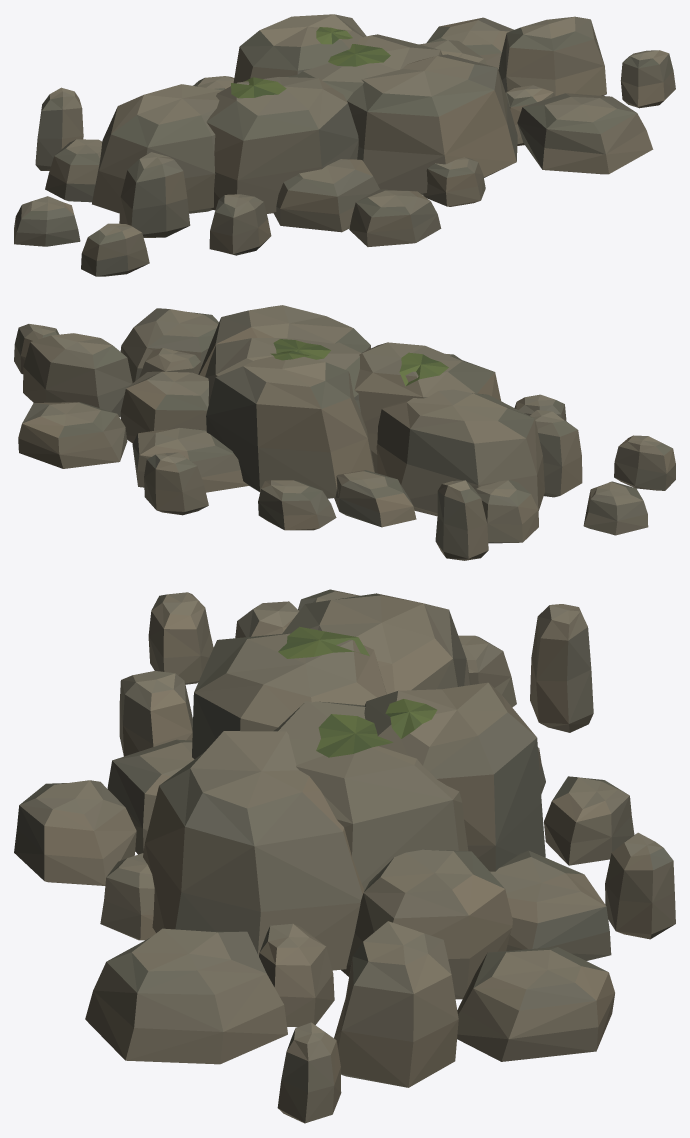
Rendered from valley-scree.glb.
The picture shows the model from 3 angles, top to bottom: view 1: azimuth 30°, elevation 25°; view 2: azimuth 150°, elevation 25°; view 3: azimuth 270°, elevation 25°; orthographic projection. The views are drawn at different scales.
Visible parts, largest first — view 1: weathered-stone-and-moss; view 2: weathered-stone-and-moss; view 3: weathered-stone-and-moss.
Part boxes in pixels (<box>): weathered-stone-and-moss: <box>14,14,675,276</box>; weathered-stone-and-moss: <box>14,305,675,560</box>; weathered-stone-and-moss: <box>14,589,675,1123</box>.
Size of the model in its own units: 1.8 by 0.3 by 1.
